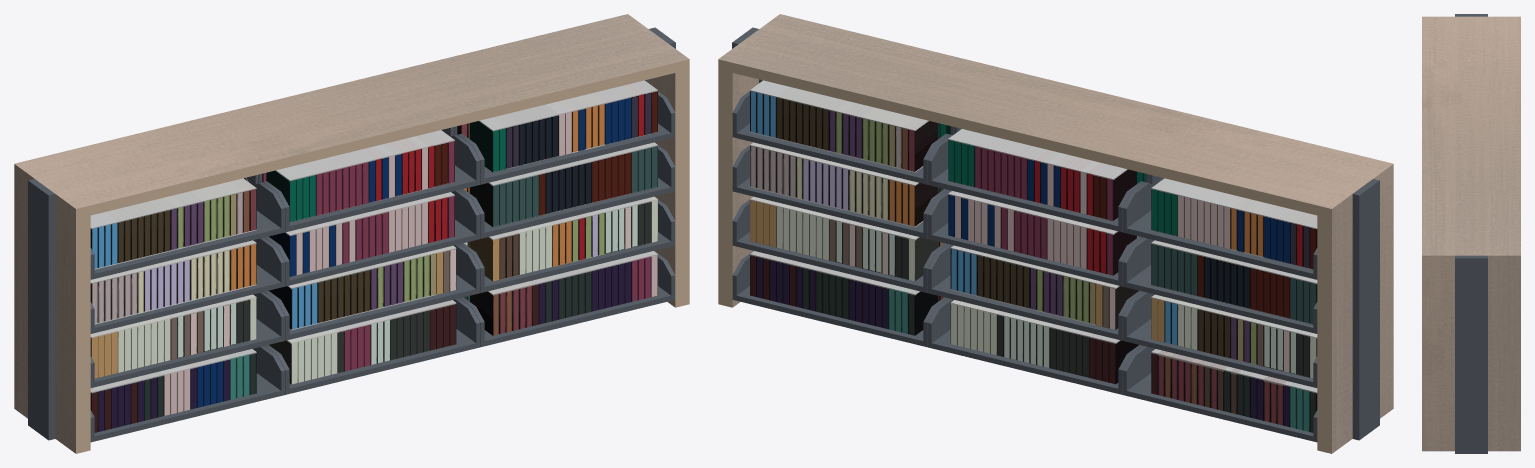
File: newbookarchive_bookshelf.fbx
The picture shows the model from 3 angles, left to right: view 1: azimuth 30°, elevation 25°; view 2: azimuth 150°, elevation 25°; view 3: azimuth 270°, elevation 25°; orthographic projection. The views are drawn at different scales.
Visible parts, largest first — view 1: newbookarchive_bookshelf; view 2: newbookarchive_bookshelf; view 3: newbookarchive_bookshelf.
Part boxes in pixels (bbox=[...]): newbookarchive_bookshelf: bbox=[14, 14, 689, 453]; newbookarchive_bookshelf: bbox=[718, 14, 1393, 453]; newbookarchive_bookshelf: bbox=[1422, 14, 1520, 453].
Bounding box in the file's own units: 0.0267 × 0.00995 × 0.00455.
Materials: 1 (1 with a texture image).
